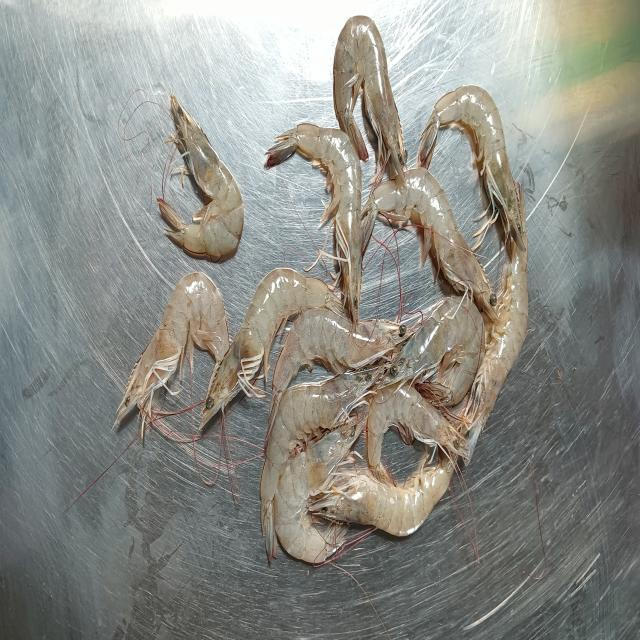shrimp: (260, 367, 380, 560), (199, 268, 342, 429), (361, 168, 496, 321), (265, 124, 361, 323), (114, 272, 229, 438), (464, 177, 528, 458), (268, 308, 409, 434), (418, 86, 524, 248), (158, 93, 244, 261), (274, 412, 365, 562), (334, 15, 408, 188), (311, 456, 454, 536), (384, 294, 485, 407), (366, 383, 466, 483)
